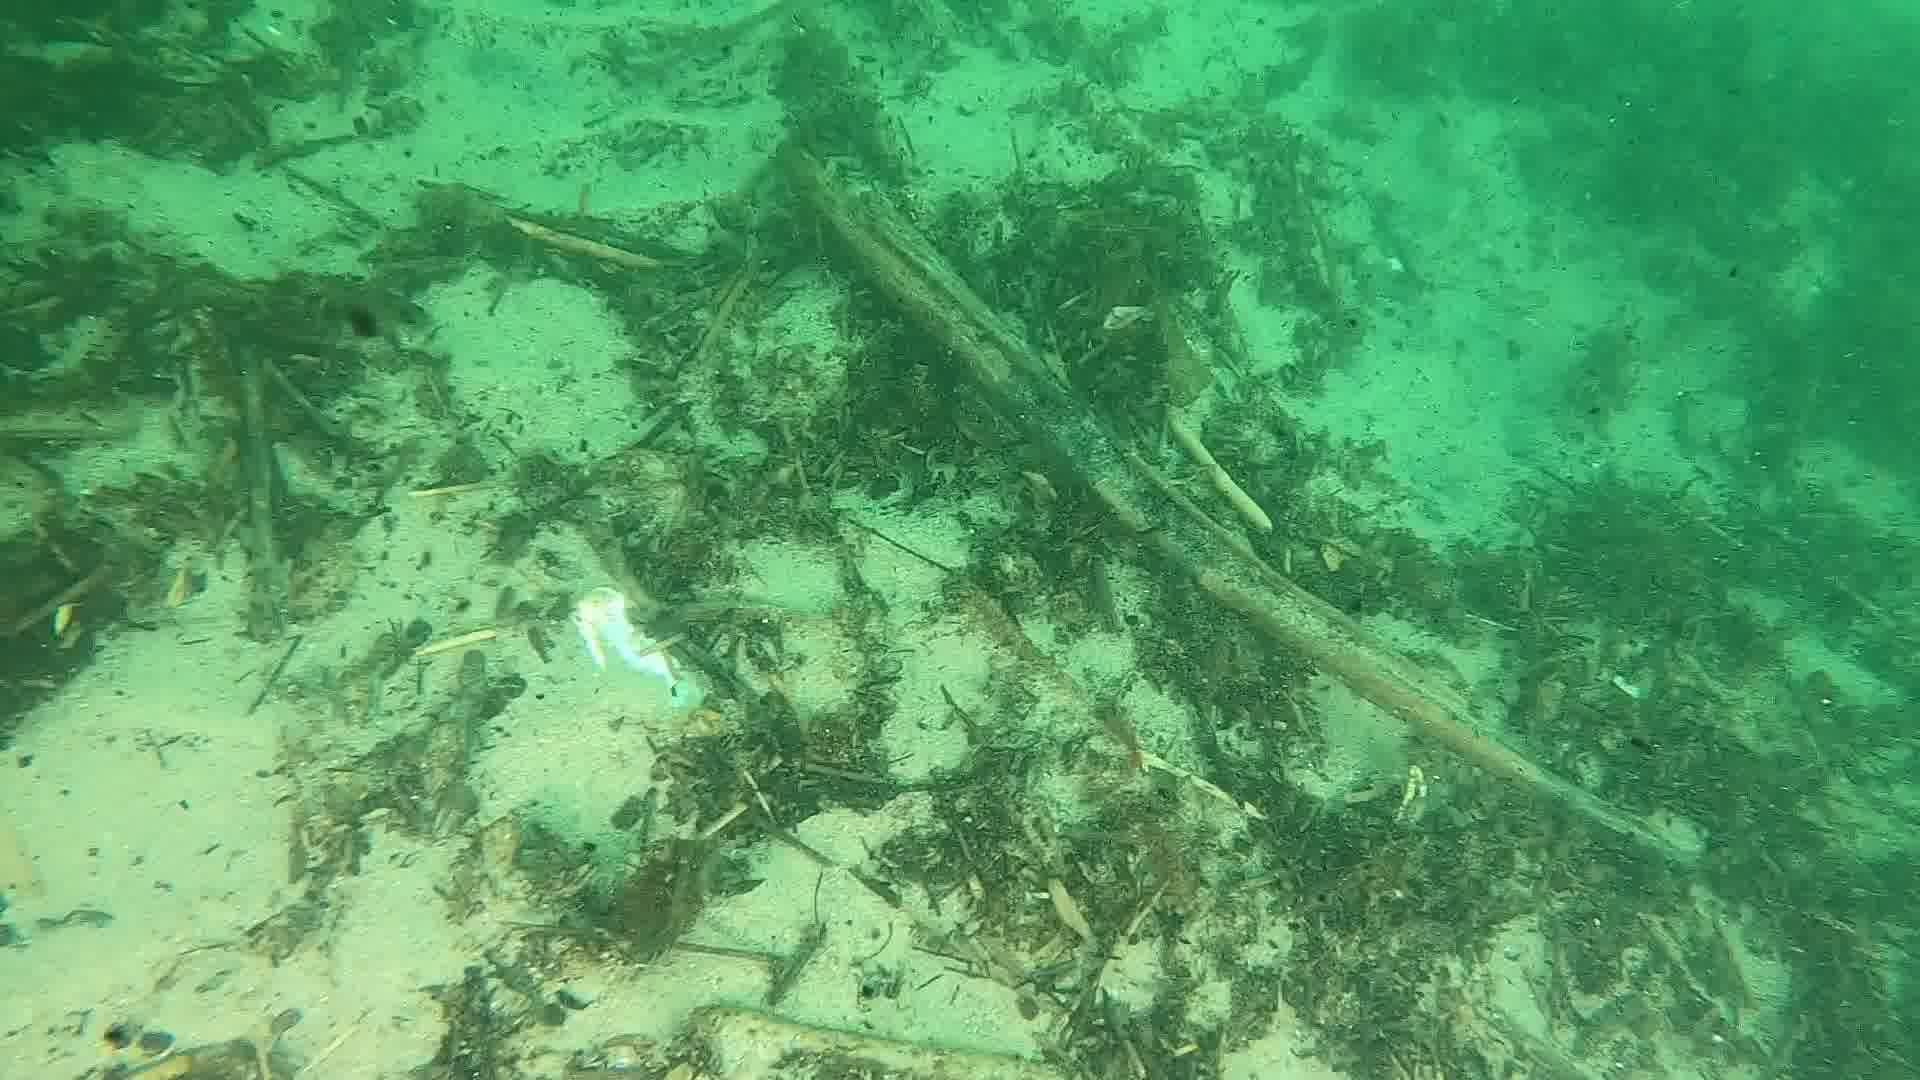wood: (799, 145, 1701, 866)
